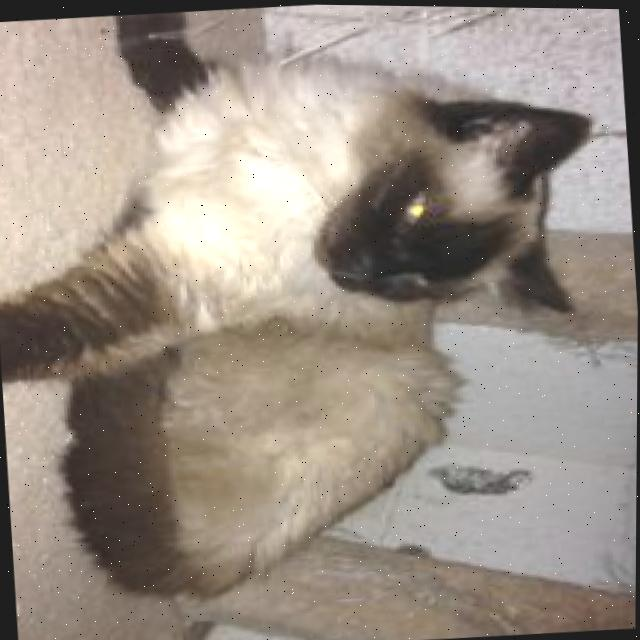Birman: (0, 0, 630, 620)
